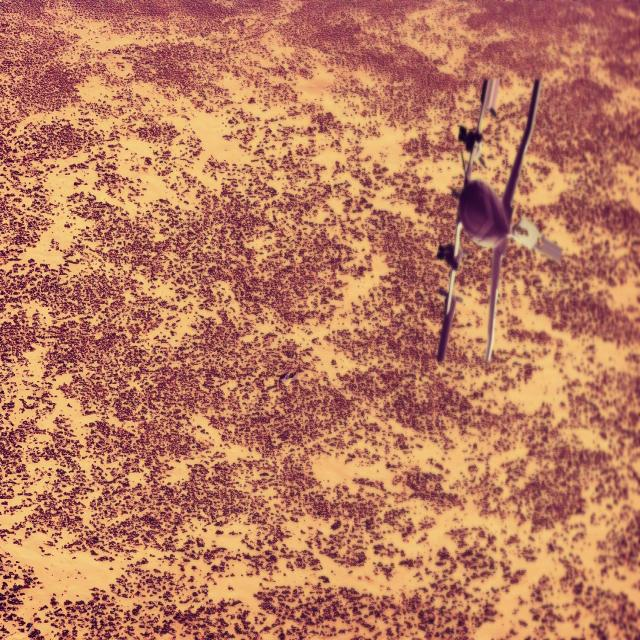airplane: (435, 75, 563, 365)
